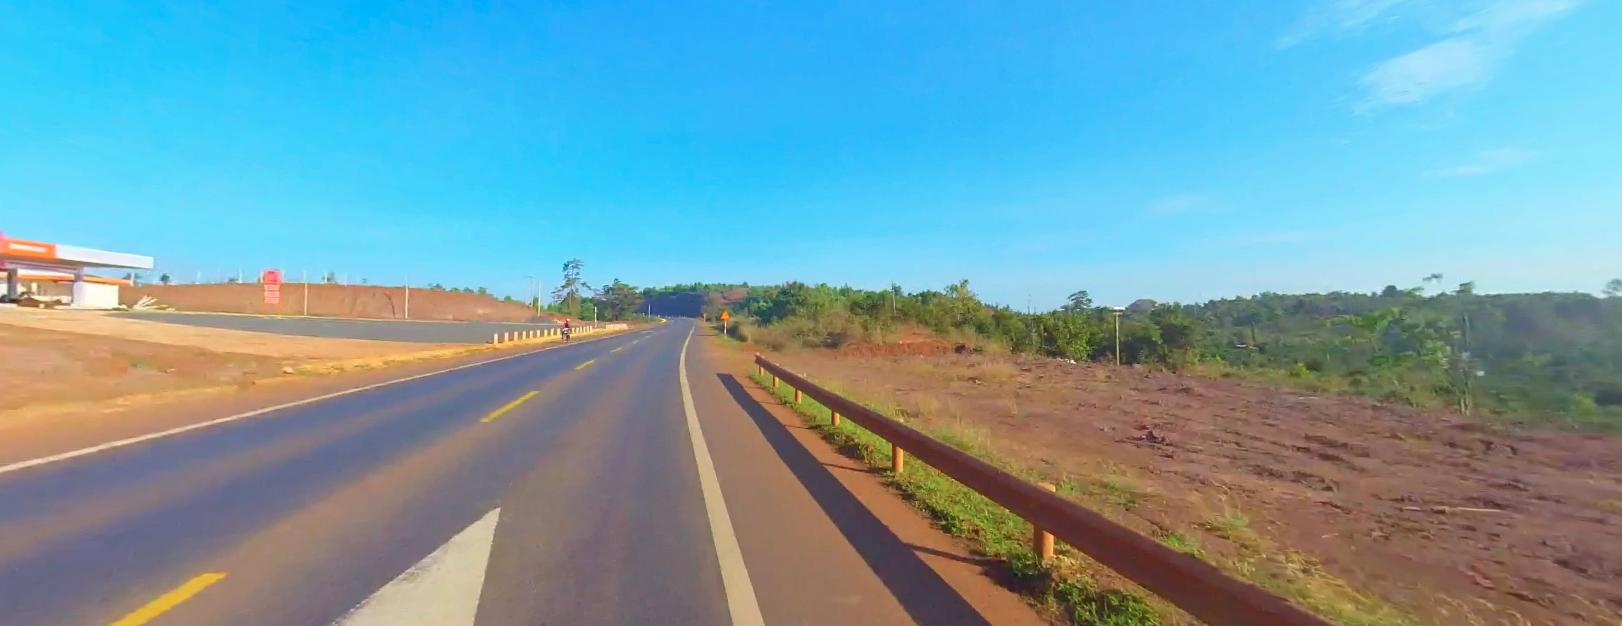Nguy hiem: (719, 308, 730, 318)
